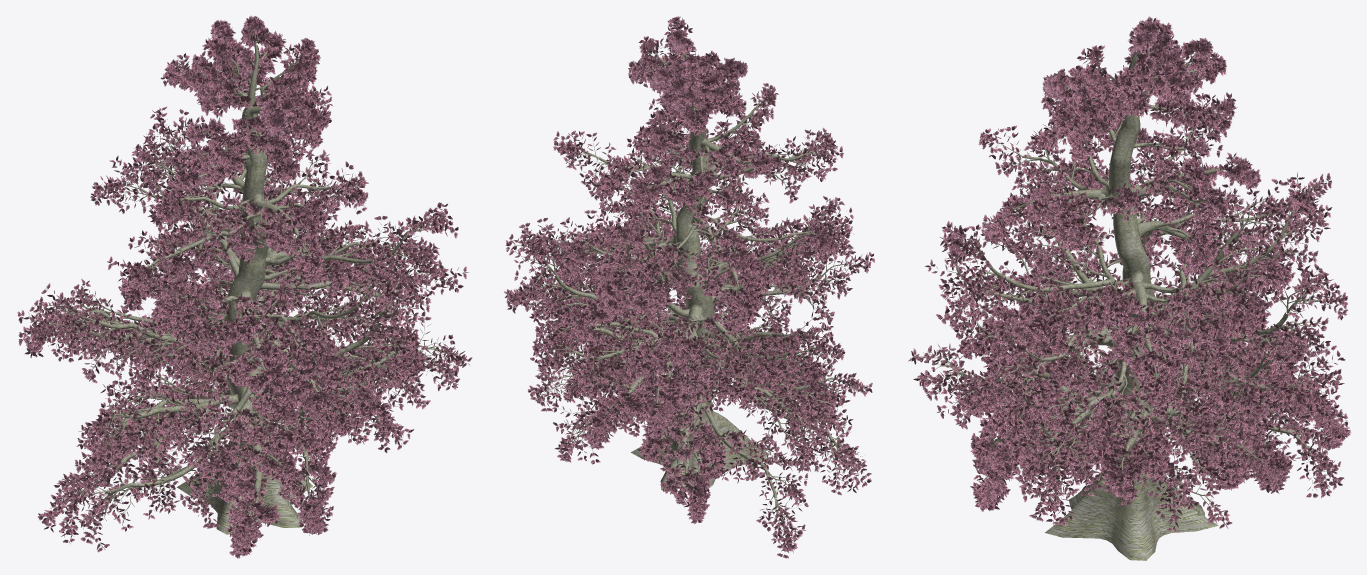
Rendered from open-crown-s71.glb.
The picture shows the model from 3 angles, left to right: view 1: azimuth 30°, elevation 25°; view 2: azimuth 150°, elevation 25°; view 3: azimuth 270°, elevation 25°; orthographic projection. The views are drawn at different scales.
Parts seen in each view (by area): view 1: BlossomPlantFactory_open-crown-s71; view 2: BlossomPlantFactory_open-crown-s71; view 3: BlossomPlantFactory_open-crown-s71.
Boxes of the visible parts, box(x1,y1,x2,y2) form: BlossomPlantFactory_open-crown-s71: box(17, 15, 472, 558); BlossomPlantFactory_open-crown-s71: box(504, 16, 874, 558); BlossomPlantFactory_open-crown-s71: box(908, 16, 1350, 560).
Size of the model in its own units: 8.67 by 10.6 by 7.75.
2 materials, 2 textured.
